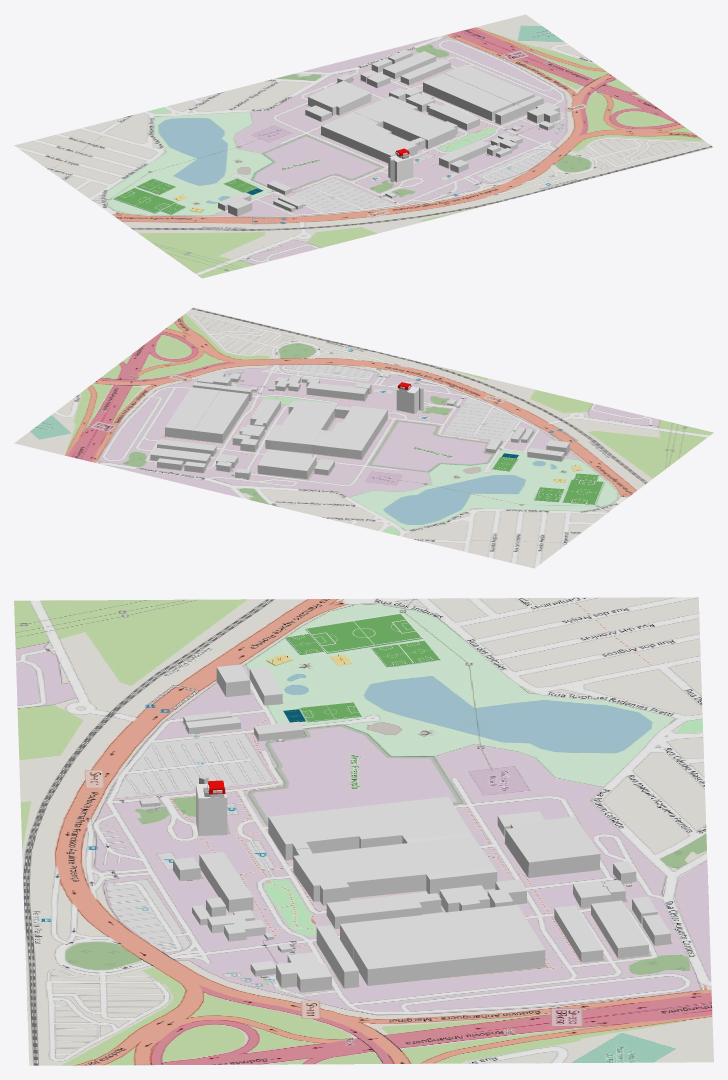
The model's file is Bosch_Facility.gltf.
3 renders of one model, top to bottom at view 1: azimuth 30°, elevation 25°; view 2: azimuth 150°, elevation 25°; view 3: azimuth 270°, elevation 25°, orthographic. The views are drawn at different scales.
Visible parts, largest first — view 1: Mapa, CA 360, CA 370, CA 160, CA 340, CA 170, Soccer Field, CA 320, CA 149, Refeitorio, CA 140, CA 401 (+1 smaller); view 2: Mapa, CA 360, CA 370, CA 160, CA 170, CA 340, Soccer Field, Refeitorio, CA 149, CA 320, CA 140, CA 401; view 3: Mapa, CA 360, CA 170, CA 370, CA 160, CA 340, Soccer Field, CA 320, CA 149, Refeitorio, CA 180, CA 140 (+10 smaller).
Boxes of the visible parts, x1,y1,x2,y2 form: Mapa: (14,14,713,278); CA 360: (354,96,457,150); CA 370: (321,112,419,162); CA 160: (423,73,512,120); CA 340: (307,80,371,115); CA 170: (444,64,534,105); Soccer Field: (113,187,176,213); CA 320: (426,102,479,130); CA 149: (383,51,436,78); Refeitorio: (439,140,490,168); CA 140: (400,58,450,85); CA 401: (388,155,413,182); Mapa: (14,307,713,568); CA 360: (265,400,343,454); CA 370: (317,406,387,459); CA 160: (194,390,248,443); CA 170: (165,387,219,439); CA 340: (257,449,316,479); Soccer Field: (562,479,604,504); Refeitorio: (306,382,367,400); CA 149: (150,447,210,466); CA 320: (250,399,280,429); CA 140: (157,439,216,456); CA 401: (396,386,418,413); Mapa: (14,597,713,1065); CA 360: (293,831,497,905); CA 170: (354,927,545,985); CA 370: (268,796,469,860); CA 160: (340,904,530,961); CA 340: (504,816,600,877); Soccer Field: (305,613,422,653); CA 320: (326,892,441,928); CA 149: (591,900,648,958); Refeitorio: (199,852,253,912); CA 180: (276,952,331,992); CA 140: (554,905,603,962).
Size of the model in its own units: 21.96 by 1.07 by 13.73.
59 materials, 9 textured.
